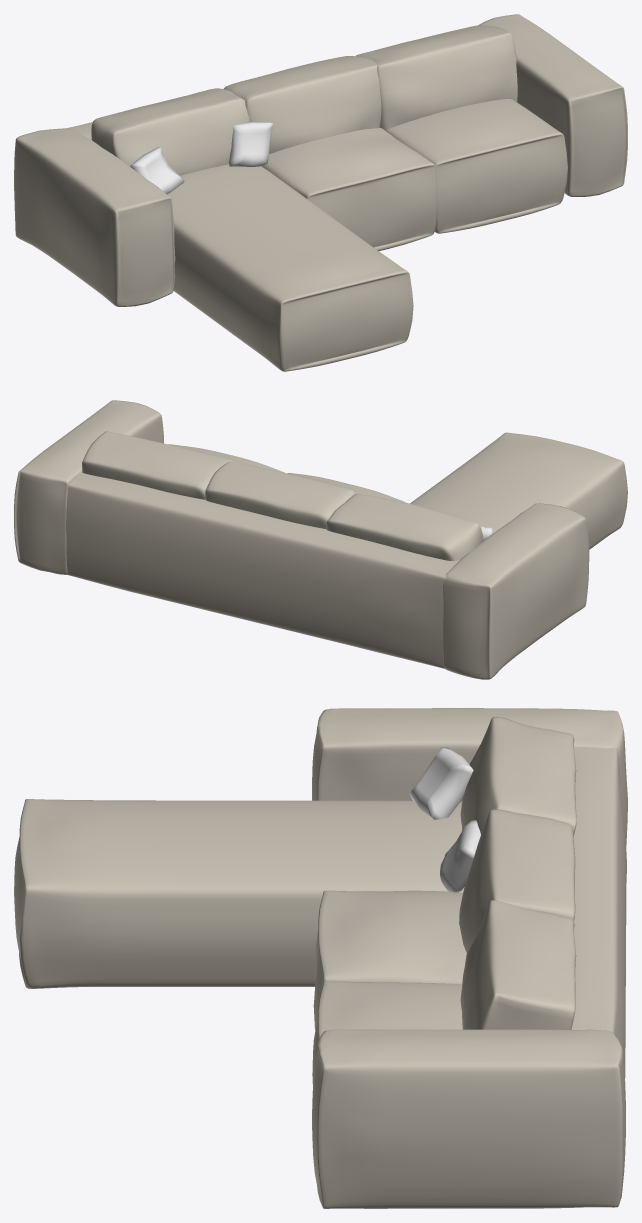
The model's file is HousePartyCouch.fbx.
3 renders of one model, top to bottom at view 1: azimuth 30°, elevation 25°; view 2: azimuth 150°, elevation 25°; view 3: azimuth 270°, elevation 25°, orthographic. The views are drawn at different scales.
Visible parts, largest first — view 1: Cushion3, CRightArmRest, cushion1, Cushion2, CLeftArmRest, BackCush1, BackCush2, BackCush3, CouchPillow2, couchPillow1; view 2: CouchBack, CRightArmRest, Cushion3, CLeftArmRest, BackCush3, BackCush1, BackCush2, Cushion2, cushion1; view 3: Cushion3, CLeftArmRest, CRightArmRest, CouchBack, Cushion2, BackCush1, BackCush2, BackCush3, cushion1, couchPillow1, CouchPillow2.
Boxes of the visible parts, left/top/right/bottom form: Cushion3: left=167, top=164, right=413, bottom=371; CRightArmRest: left=14, top=128, right=175, bottom=306; cushion1: left=386, top=99, right=567, bottom=233; Cushion2: left=261, top=127, right=437, bottom=251; CLeftArmRest: left=478, top=14, right=627, bottom=196; BackCush1: left=356, top=25, right=517, bottom=130; BackCush2: left=223, top=56, right=381, bottom=153; BackCush3: left=91, top=88, right=249, bottom=175; CouchPillow2: left=229, top=121, right=272, bottom=166; couchPillow1: left=130, top=147, right=184, bottom=194; CouchBack: left=66, top=472, right=459, bottom=668; CRightArmRest: left=443, top=503, right=589, bottom=679; Cushion3: left=410, top=432, right=627, bottom=549; CLeftArmRest: left=14, top=400, right=163, bottom=574; BackCush3: left=326, top=494, right=483, bottom=560; BackCush1: left=82, top=431, right=232, bottom=499; BackCush2: left=205, top=461, right=355, bottom=529; Cushion2: left=287, top=473, right=405, bottom=502; cushion1: left=168, top=444, right=284, bottom=472; Cushion3: left=14, top=799, right=464, bottom=988; CLeftArmRest: left=312, top=1029, right=625, bottom=1208; CRightArmRest: left=312, top=708, right=627, bottom=845; CouchBack: left=571, top=746, right=626, bottom=1077; Cushion2: left=313, top=890, right=466, bottom=1029; BackCush1: left=460, top=899, right=576, bottom=1029; BackCush2: left=459, top=809, right=575, bottom=953; BackCush3: left=460, top=716, right=576, bottom=835; cushion1: left=312, top=981, right=462, bottom=1083; couchPillow1: left=409, top=747, right=473, bottom=819; CouchPillow2: left=440, top=820, right=480, bottom=892.
Bounding box in the file's own units: 2136 × 517 × 1510.
